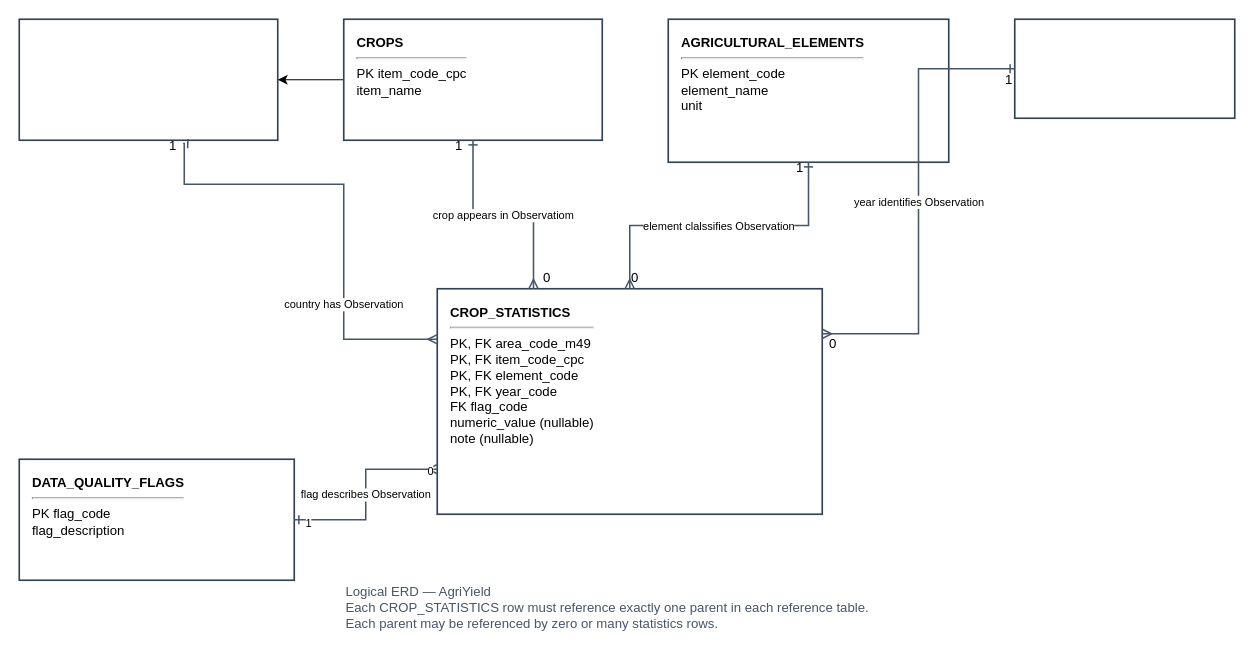
This 1255x666 diagram has some shape labels left out. The shapes that lost their labels are listed below. From the top down, each one's centre as x and y in pixels, then its label:
At pixel 148 79: "COUNTRIES PK area_code_m49 country_name".
At pixel 1124 68: "AGRICULTURAL_YEARS PK year_code".
